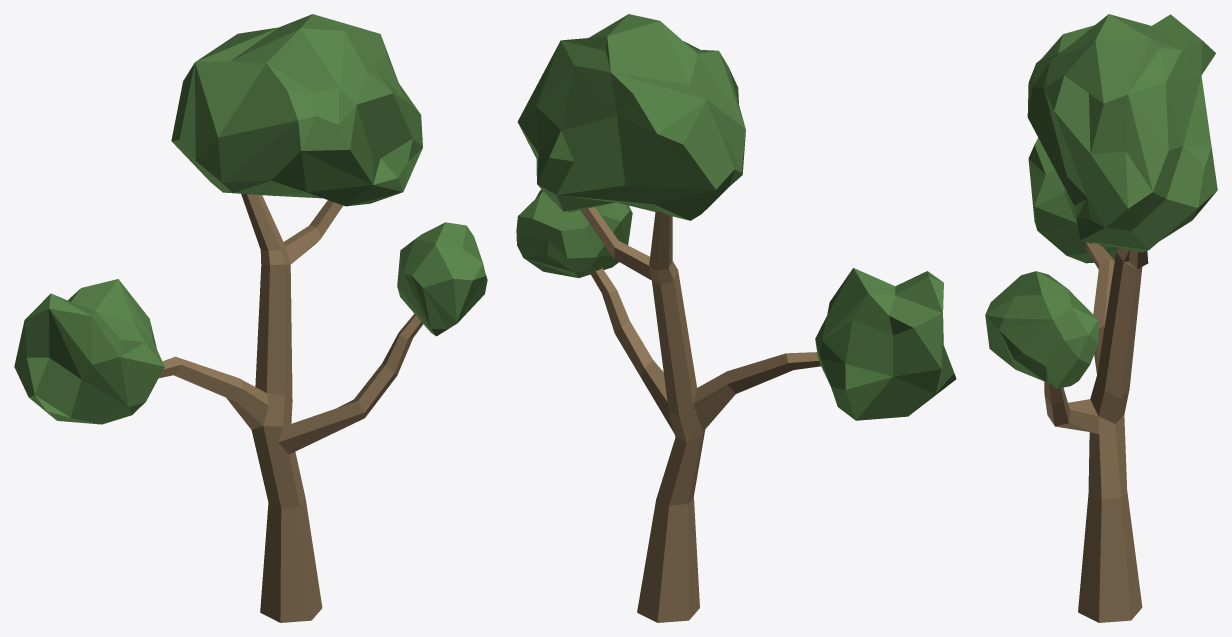
File: tree_generic_01.fbx
3 views of the same model, side by side, from view 1: azimuth 30°, elevation 25°; view 2: azimuth 150°, elevation 25°; view 3: azimuth 270°, elevation 25° (orthographic). The views are drawn at different scales.
Parts seen in each view (by area): view 1: tree; view 2: tree; view 3: tree.
Part boxes in pixels (<box>): tree: <box>14,14,487,622</box>; tree: <box>516,14,956,622</box>; tree: <box>985,14,1217,622</box>.
Size of the model in its own units: 0.4615 by 0.5829 by 0.2046.
